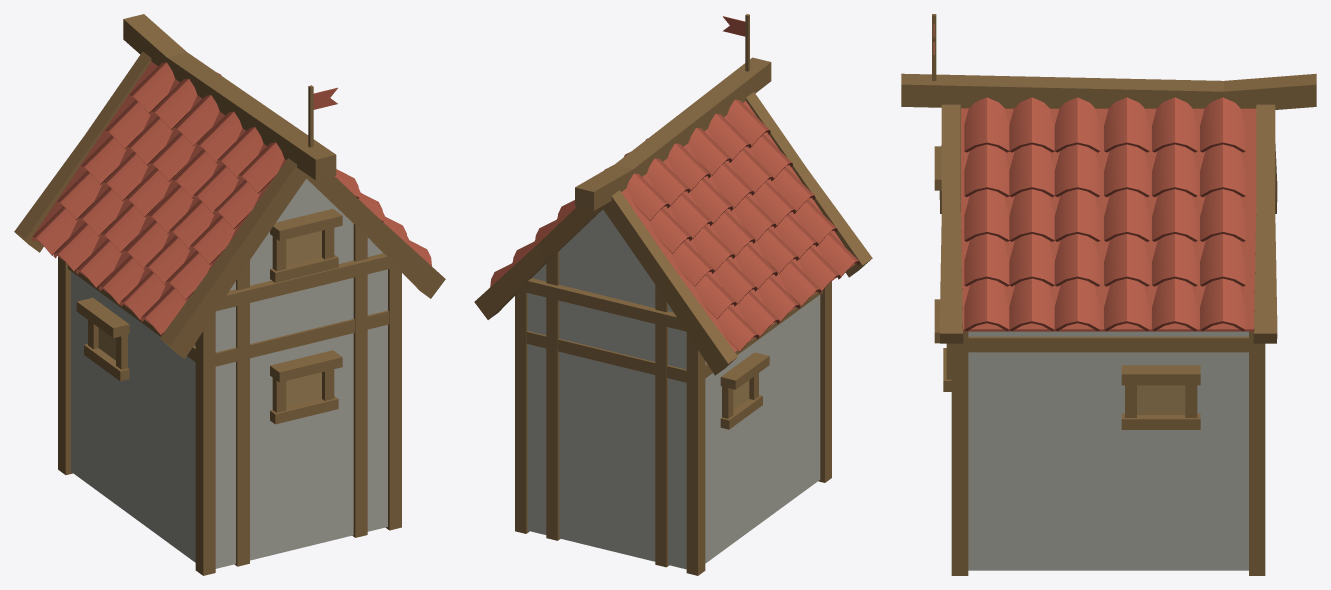
Rendered from bld_house_b.glb.
3 views of the same model, side by side, from view 1: azimuth 30°, elevation 25°; view 2: azimuth 150°, elevation 25°; view 3: azimuth 270°, elevation 25° (orthographic). The views are drawn at different scales.
Parts seen in each view (by area): view 1: Mesh; view 2: Mesh; view 3: Mesh.
Boxes of the visible parts, x1,y1,x2,y2 form: Mesh: (14, 14, 445, 575); Mesh: (474, 14, 872, 575); Mesh: (901, 14, 1316, 575).
Bounding box in the file's own units: 4.26 × 6.8 × 5.03.
